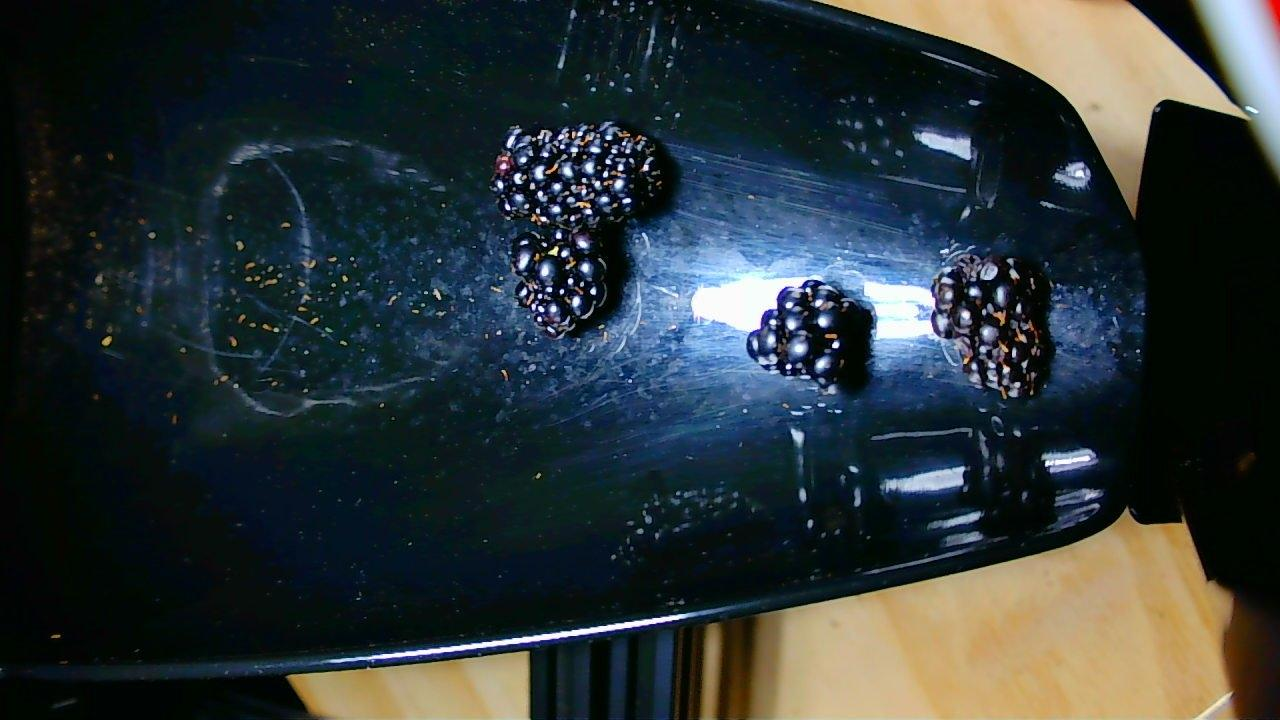berry: (493, 123, 667, 228), (932, 249, 1052, 400), (750, 279, 864, 383), (512, 230, 605, 331)
